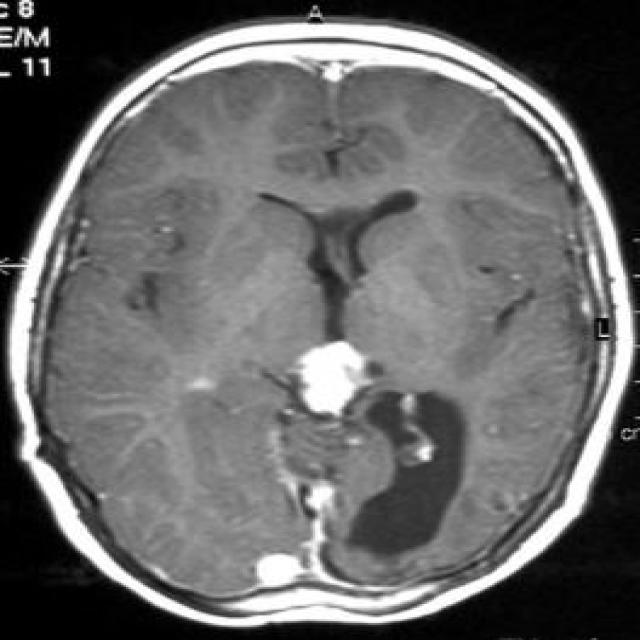Tumor-Cell: (278, 344, 376, 431)
